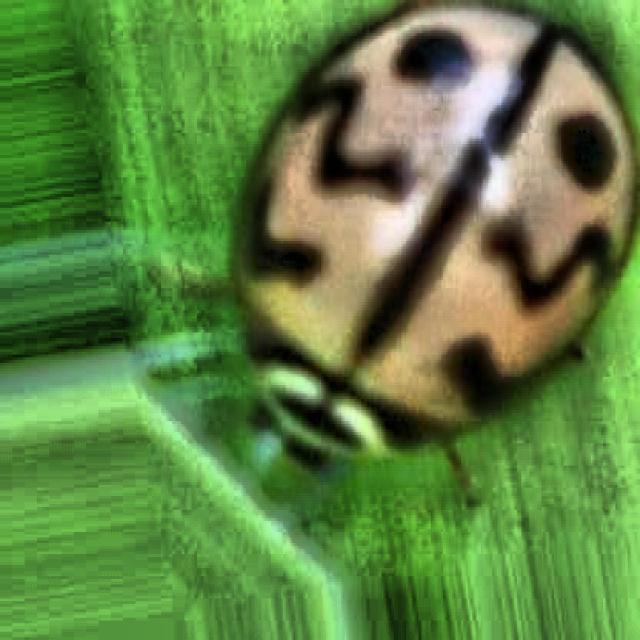Asian-Lady-beetle: (206, 0, 638, 515)
